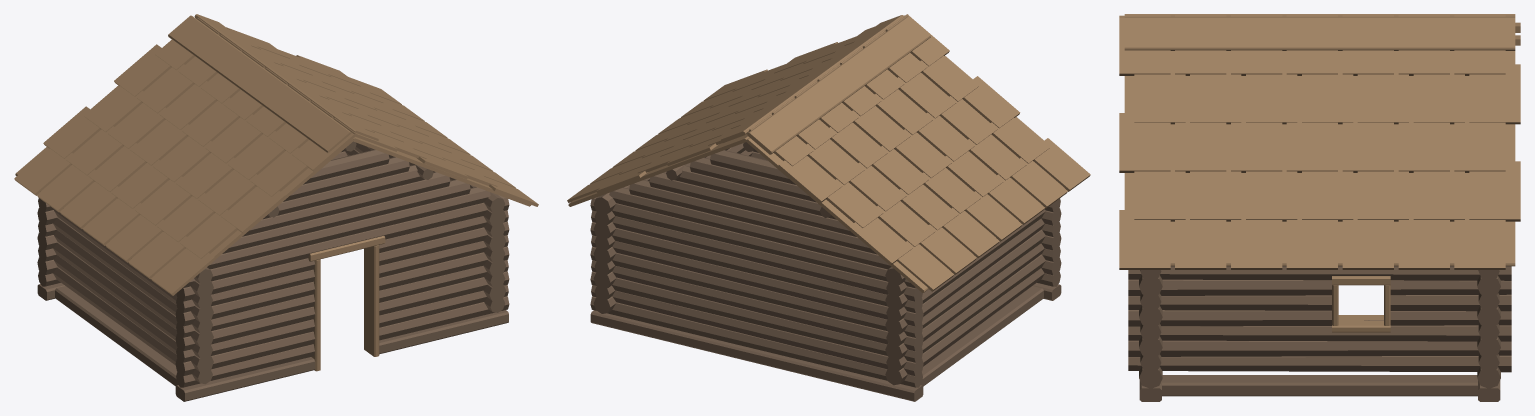
File: log_cabin.glb
3 renders of one model, left to right at view 1: azimuth 30°, elevation 25°; view 2: azimuth 150°, elevation 25°; view 3: azimuth 270°, elevation 25°, orthographic. The views are drawn at different scales.
Visible parts, largest first — view 1: log_cabin; view 2: log_cabin; view 3: log_cabin.
Boxes of the visible parts, box(x1,y1,x2,y2) form: log_cabin: box(14, 14, 538, 401); log_cabin: box(567, 14, 1090, 401); log_cabin: box(1119, 14, 1520, 401).
Bounding box in the file's own units: 6.91 × 4.24 × 5.34.
